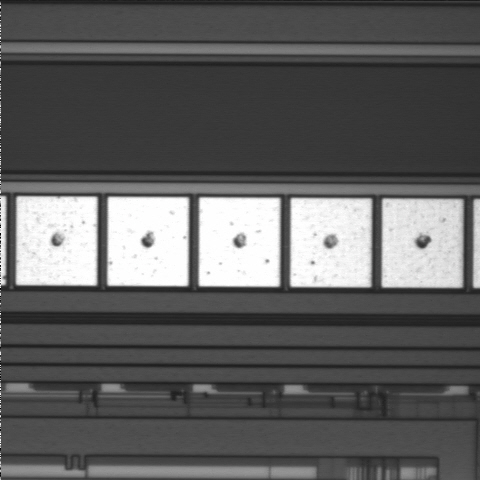pad: (107, 197, 189, 286), (290, 198, 372, 287), (16, 196, 97, 286), (199, 197, 280, 287), (382, 199, 463, 287)
